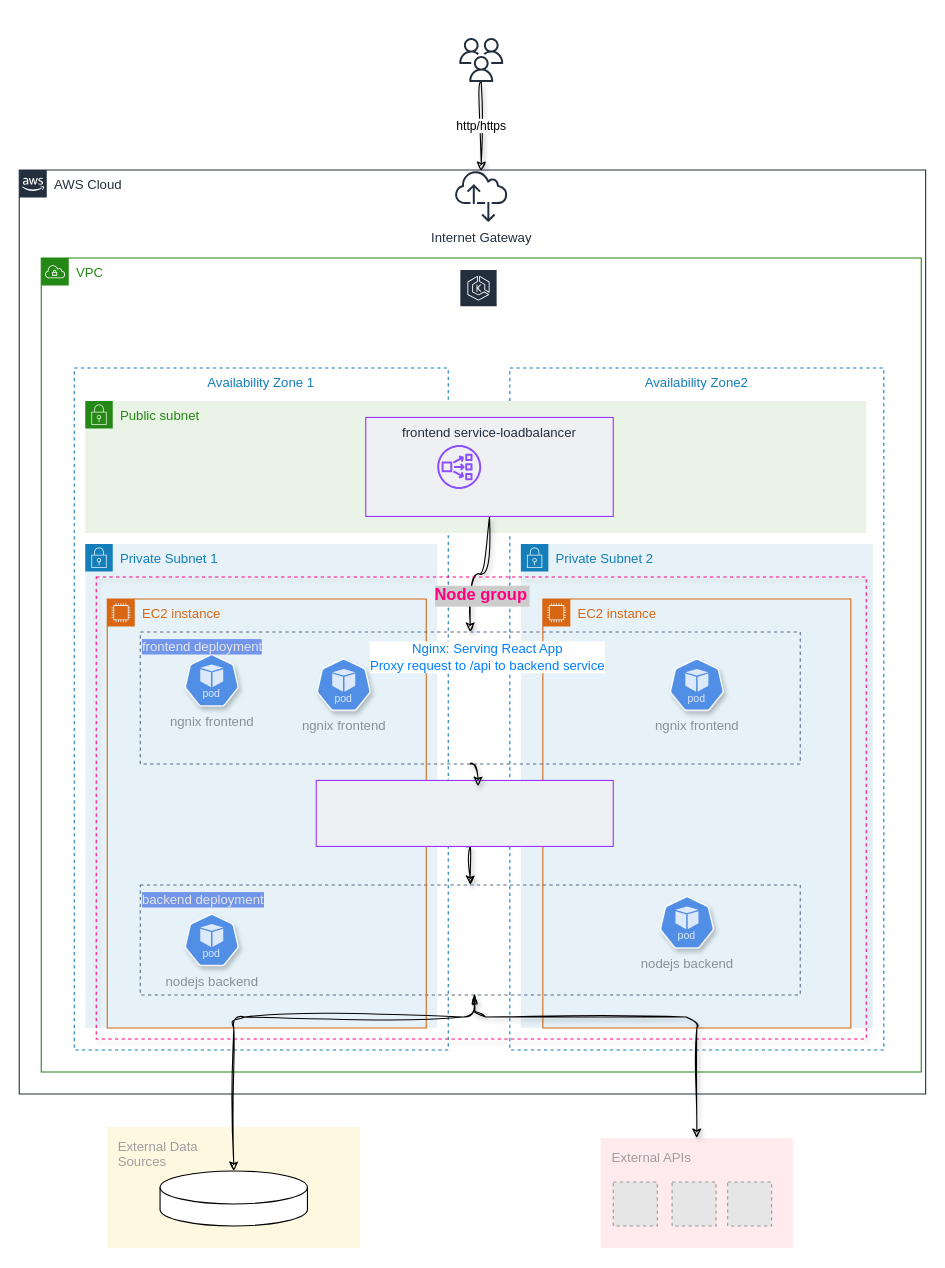
The diagram is 945 pixels wide and 1268 high, and some of its shapes have lost their labels. Grey dashed boxes stand in for pictures. The centre of each missing label's shape, as x and y in pixels:
"Amazon EKS" belongs at (x=478, y=312).
"backend service -ClusterIP" belongs at (x=464, y=812).
"MongoDB" belongs at (x=233, y=1198).
"Network Load Balancer" belongs at (x=459, y=466).
"Users" belongs at (x=481, y=59).
